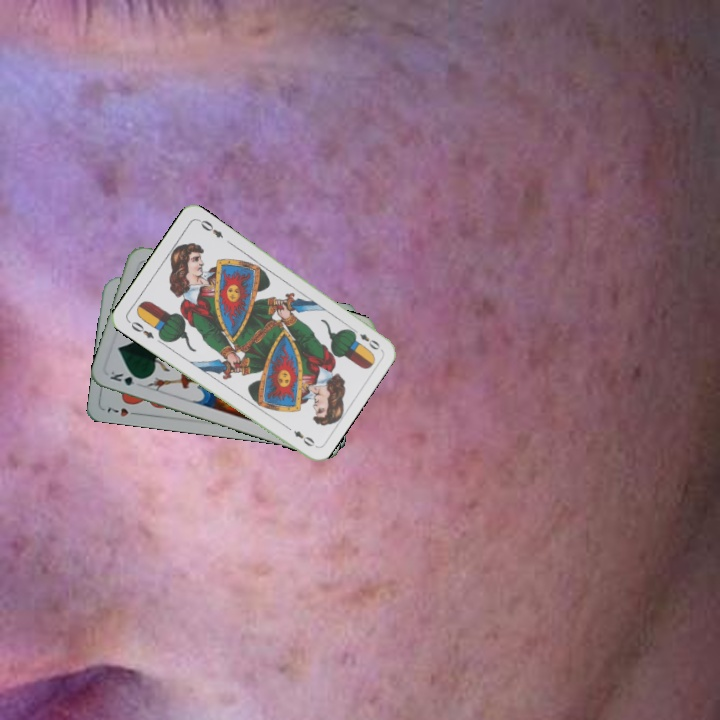EO: (347, 325, 383, 353), (127, 317, 157, 341)
GK: (106, 367, 146, 388)
H7: (103, 403, 142, 419)
